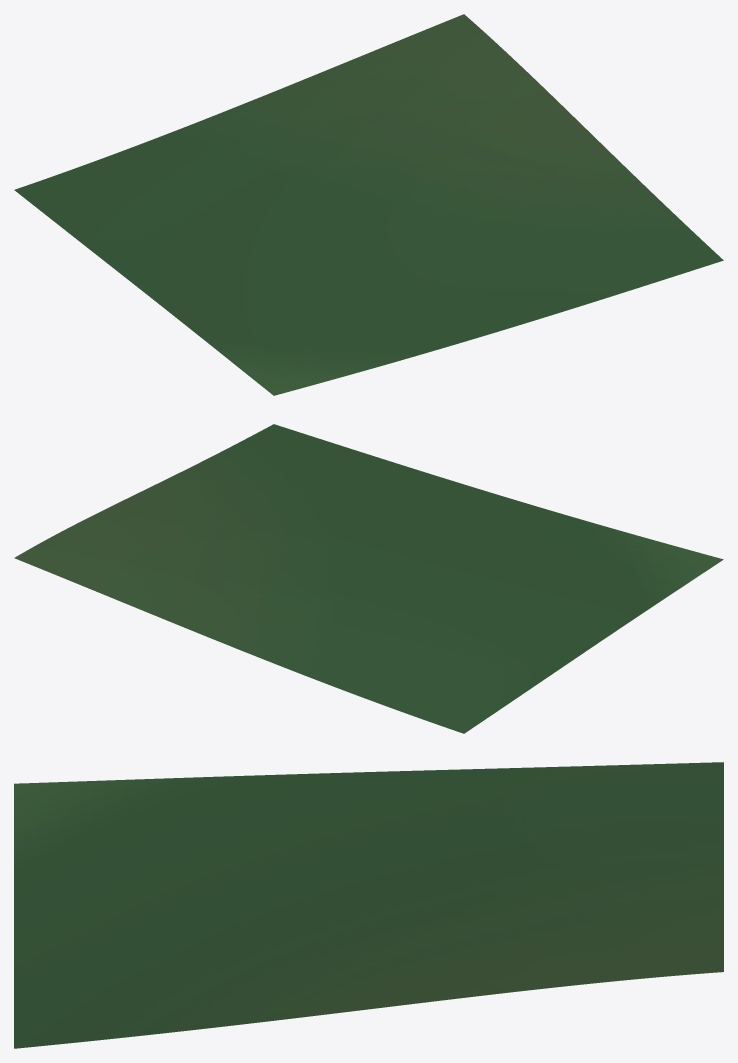
File: terrain_T_W02_N05.glb
3 views of the same model, one above another, from view 1: azimuth 30°, elevation 25°; view 2: azimuth 150°, elevation 25°; view 3: azimuth 270°, elevation 25° (orthographic). The views are drawn at different scales.
Parts seen in each view (by area): view 1: Terrain_T_W02_N05; view 2: Terrain_T_W02_N05; view 3: Terrain_T_W02_N05.
Part boxes in pixels (bbox=[...]): Terrain_T_W02_N05: bbox=[14, 14, 723, 395]; Terrain_T_W02_N05: bbox=[14, 424, 723, 733]; Terrain_T_W02_N05: bbox=[14, 762, 723, 1048].
Bounding box in the file's own units: 2000 × 347 × 2000.
1 material, 1 textured.
